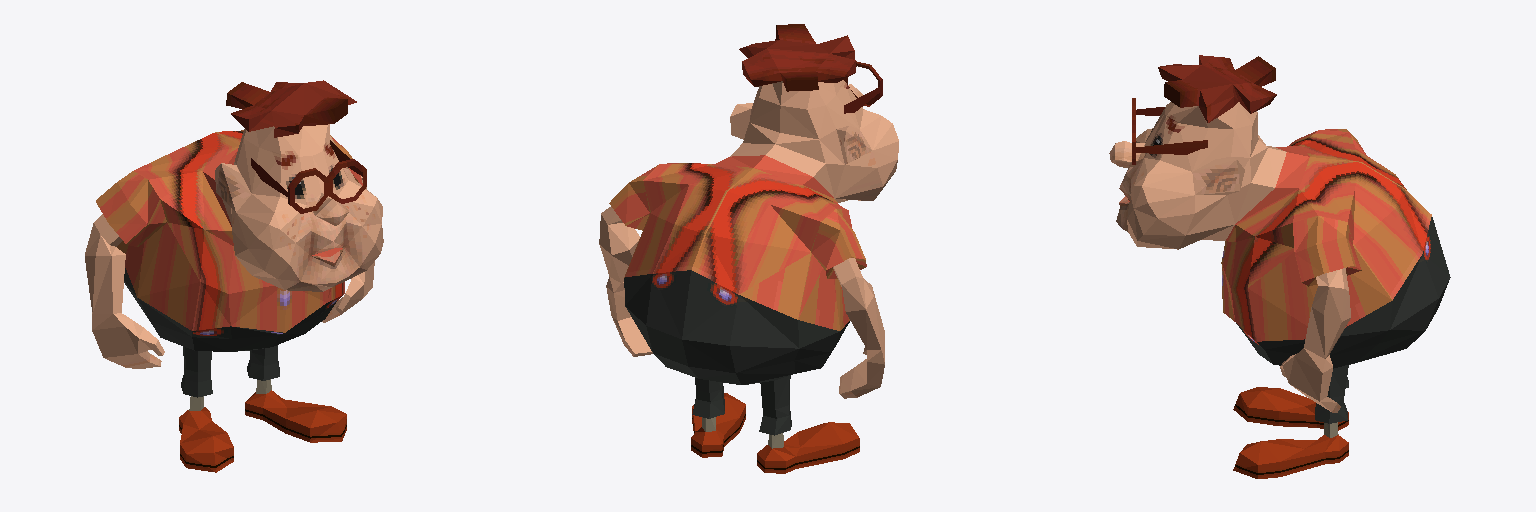
The picture shows the model from 3 angles: view 1: azimuth 30°, elevation 25°; view 2: azimuth 150°, elevation 25°; view 3: azimuth 270°, elevation 25°; orthographic projection.
Parts seen in each view (by area): view 1: Mesh_0271.ri, Mesh_0275.ri, Mesh_0273.ri; view 2: Mesh_0271.ri; view 3: Mesh_0271.ri, Mesh_0273.ri.
Boxes of the visible parts, x1,y1,x2,y2 form: Mesh_0271.ri: [85, 80, 383, 472]; Mesh_0275.ri: [290, 160, 366, 213]; Mesh_0273.ri: [251, 140, 362, 210]; Mesh_0271.ri: [599, 24, 898, 473]; Mesh_0271.ri: [1109, 55, 1450, 478]; Mesh_0273.ri: [1132, 98, 1207, 164].
Bounding box in the file's own units: 5.07 × 6.37 × 5.33.
1 materials, 1 textured.